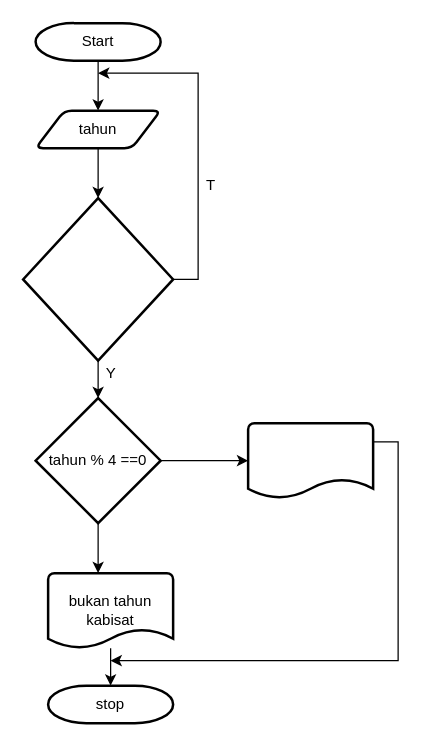
Image size: 430x745. Some labels were removed from this diagram. The box of each missing label's shape, as (x1, y1, x2, y2) in pixels:
tahun >=1900 && tahun <=2020: (21, 196, 174, 361)
tahun kabisat: (246, 421, 374, 499)
